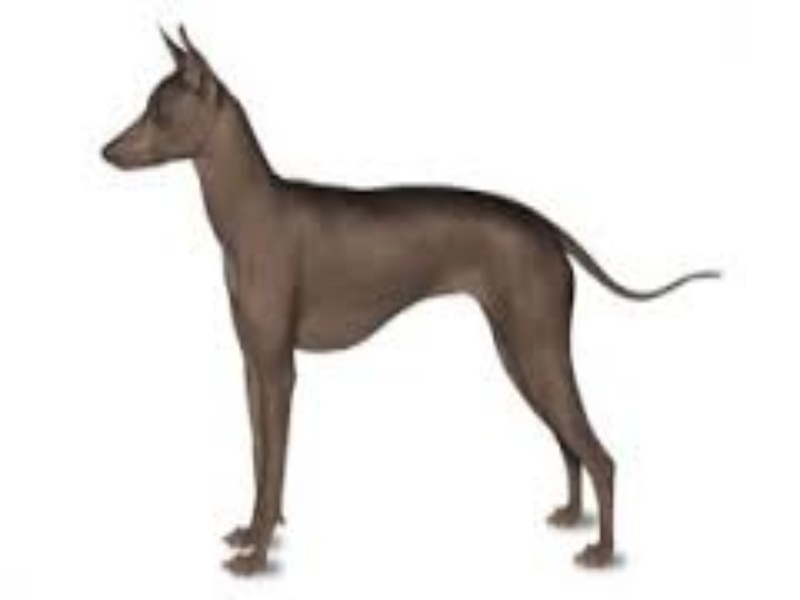dog: (53, 5, 754, 575)
